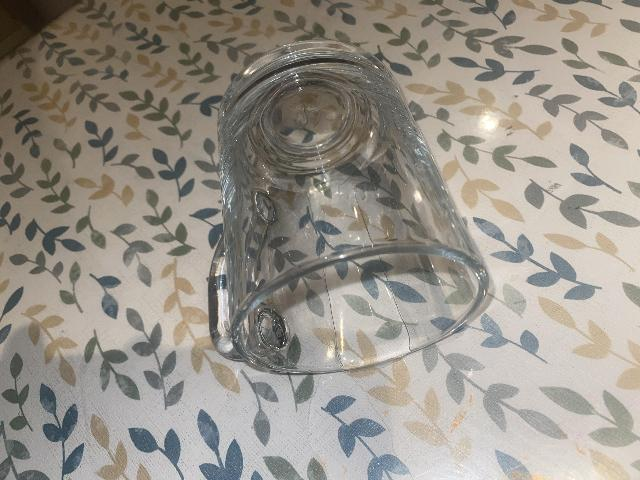Cam: (202, 42, 506, 399)
